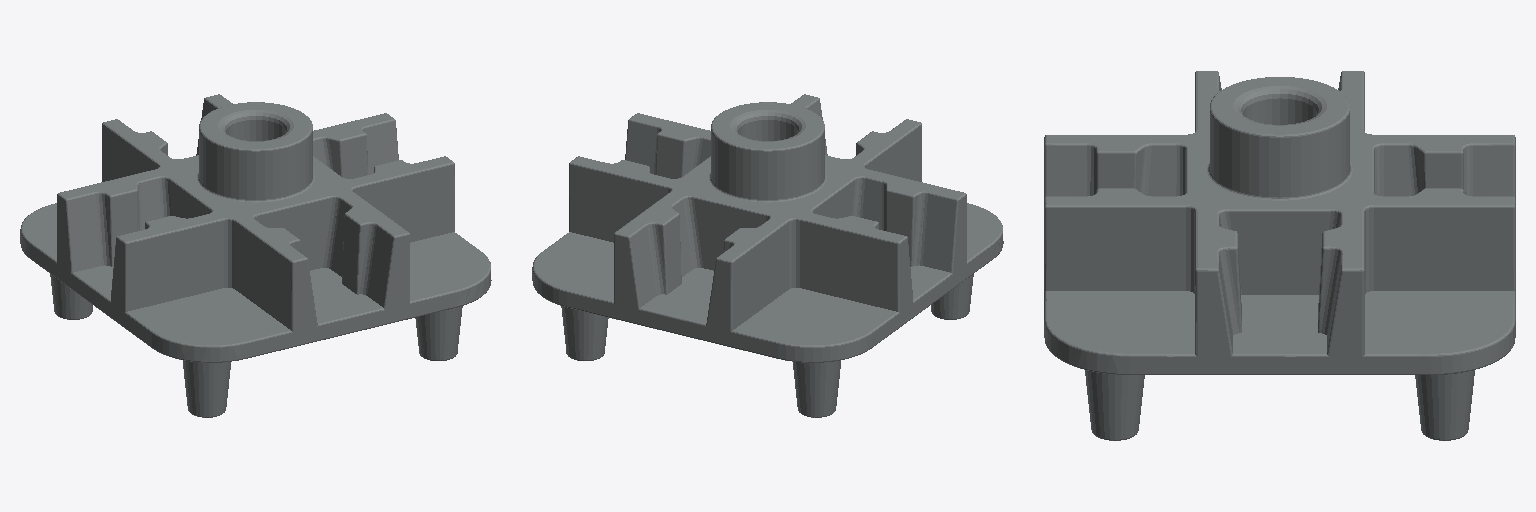
The robot description file, URDF, robot "center_02":
<?xml version="1.0" encoding="utf-8"?>
<!-- This URDF was automatically created by SolidWorks to URDF Exporter! Originally created by [author] ([email redacted]) 
     Commit Version: 1.5.1-0-g916b5db  Build Version: 1.5.7152.31018
     For more information, please see http://wiki.ros.org/sw_urdf_exporter -->
<robot
  name="center_02">
  <link
    name="center_02">
    <inertial>
      <origin
        xyz="0.05 0.05 -0.015665"
        rpy="0 0 0" />
      <mass
        value="0.97831" />
      <inertia
        ixx="0.00073743"
        ixy="5.9851E-13"
        ixz="-1.6345E-14"
        iyy="0.00073743"
        iyz="-2.1095E-15"
        izz="0.0012655" />
    </inertial>
    <!-- <inertial>
      <origin
        xyz="0.05 0.015665 0.05"
        rpy="0 0 0" />
      <mass
        value="0.97831" />
      <inertia
        ixx="0.00073743"
        ixy="-1.6345E-14"
        ixz="-5.9851E-13"
        iyy="0.0012655"
        iyz="2.10946766610614E-15"
        izz="0.00073743" />
    </inertial> -->
    <visual>
      <origin
        xyz="0 0 0"
        rpy="0 0 0" />
      <!-- xyz="0.05 -0.05 -0.045"
      rpy="1.5707963267949 0 0" /> -->
    <geometry>
        <mesh
          filename="package://my_ur10_description/meshes/object/center_02.STL" />
      </geometry>
      <material
        name="plain_carbon_steel">
        <color
          rgba="0.52941 0.54902 0.54902 1" />
      </material>
    </visual>
    <collision>
      <origin
        xyz="0 0 0"
        rpy="0 0 0" />
      <geometry>
        <mesh
          filename="package://my_ur10_description/meshes/object/center_02.STL" />
      </geometry>
    </collision>
  </link>

  <gazebo reference="center_02">
    <material>
      <color rgba="0.52941 0.54902 0.54902 1" />
    </material>
    <kp>1000000.0</kp>
    <kd>1.0</kd>
    <mu1>0.8</mu1>
    <mu2>0.7</mu2>
    <maxVel>0.0</maxVel>
    <minDepth>0.001</minDepth>
    <!-- <selfCollide>true</selfCollide> -->
  </gazebo>
</robot>

--- Facts derived from the render (not from the file) ---
3 views of the same robot in one strip: view 1: azimuth 30°, elevation 25°; view 2: azimuth 150°, elevation 25°; view 3: azimuth 270°, elevation 25° (orthographic).
Robot: center_02 — 1 links, 0 joints (none); root link center_02; default pose: every joint at zero.
Links seen in each view (by area): view 1: center_02; view 2: center_02; view 3: center_02.
Link boxes in pixels (x1,y1,x2,y2): center_02: (20,94,491,417); center_02: (532,94,1003,417); center_02: (1044,71,1515,440).
Size in the robot's own frame: 0.1 by 0.1 by 0.06 metres.
1 mesh visuals loaded from 1 distinct referenced files (1 binary STL).
